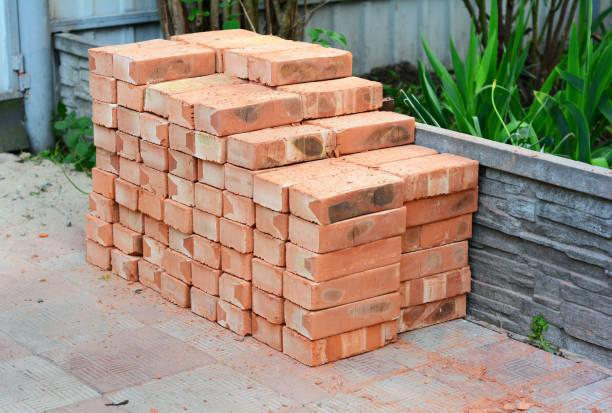Bricks: (309, 238, 409, 285), (312, 317, 403, 364), (312, 266, 403, 312), (283, 166, 403, 200), (308, 298, 398, 341), (321, 212, 401, 259), (302, 77, 386, 118), (401, 268, 470, 316), (322, 183, 403, 223), (338, 119, 420, 155), (387, 149, 474, 182), (404, 215, 471, 257), (405, 163, 479, 201), (406, 191, 479, 229), (264, 157, 363, 185), (254, 136, 340, 168), (402, 294, 469, 332), (220, 101, 307, 130), (204, 85, 296, 112), (173, 79, 265, 105), (405, 244, 466, 282), (348, 141, 435, 167), (316, 109, 407, 133), (242, 122, 328, 146), (139, 57, 218, 83), (271, 57, 344, 85), (155, 69, 239, 92), (129, 38, 211, 61), (259, 44, 348, 62), (113, 195, 147, 235), (290, 212, 320, 254), (218, 219, 253, 251), (134, 186, 162, 223), (252, 237, 288, 265), (222, 246, 250, 282), (135, 265, 166, 297), (249, 257, 280, 288), (161, 249, 190, 282), (187, 285, 214, 320), (253, 178, 285, 205), (162, 276, 189, 308), (220, 274, 245, 308), (283, 275, 312, 304), (165, 196, 191, 228), (111, 57, 140, 84), (215, 303, 242, 332), (88, 169, 114, 198), (197, 237, 219, 271), (168, 147, 195, 174), (222, 161, 248, 189), (286, 190, 314, 216), (85, 78, 115, 102), (86, 217, 110, 247), (116, 248, 137, 282), (222, 194, 248, 221), (167, 175, 195, 200), (285, 248, 313, 273), (279, 334, 310, 356), (144, 92, 172, 116), (256, 206, 284, 230), (194, 184, 217, 213), (253, 318, 276, 347), (225, 140, 255, 162), (115, 86, 144, 108), (256, 287, 278, 316), (114, 177, 135, 207), (119, 111, 144, 135), (168, 232, 192, 257), (222, 53, 248, 76), (196, 160, 219, 186), (169, 98, 189, 127), (89, 192, 112, 217), (285, 299, 307, 325), (89, 238, 108, 268), (142, 141, 162, 169), (194, 136, 222, 155), (192, 216, 211, 244), (138, 168, 161, 190), (192, 268, 214, 291), (143, 241, 165, 264), (169, 132, 197, 150), (145, 120, 168, 141), (143, 224, 168, 243), (91, 50, 109, 76), (113, 230, 136, 250), (115, 134, 135, 156), (197, 105, 216, 128), (100, 150, 119, 171), (121, 160, 139, 181), (250, 60, 267, 82), (93, 129, 110, 149), (93, 108, 114, 124)
